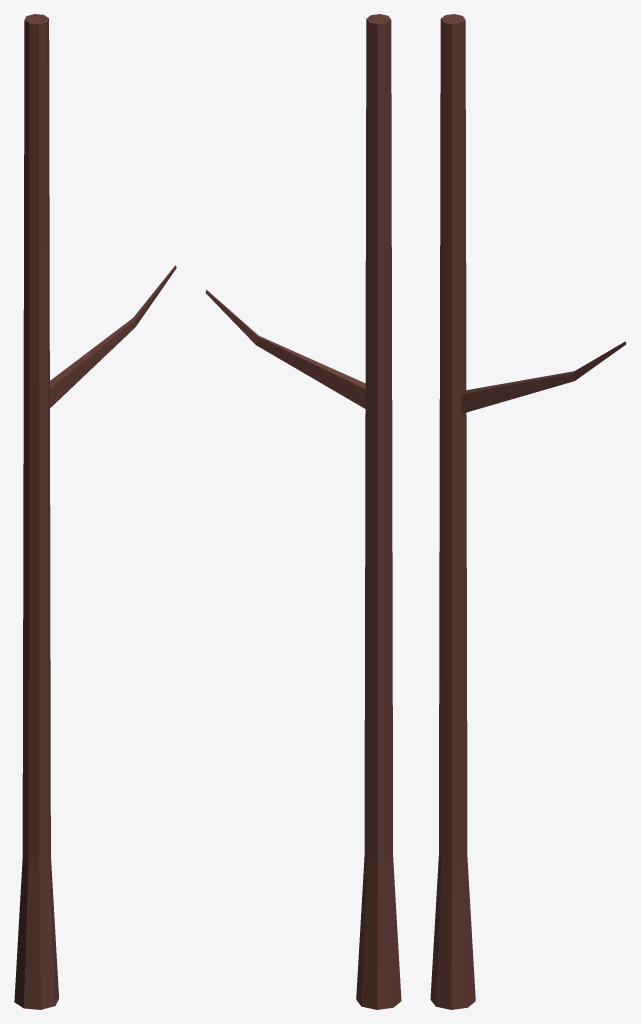
Rendered from LongTree_thin.fbx.
The picture shows the model from 3 angles, left to right: view 1: azimuth 30°, elevation 25°; view 2: azimuth 150°, elevation 25°; view 3: azimuth 330°, elevation 25°; orthographic projection.
Visible parts, largest first — view 1: TreeTrunk.001; view 2: TreeTrunk.001; view 3: TreeTrunk.001.
Boxes of the visible parts, x1,y1,x2,y2 form: TreeTrunk.001: (14, 14, 176, 1009); TreeTrunk.001: (205, 14, 401, 1009); TreeTrunk.001: (430, 14, 626, 1009).
Size of the model in its own units: 489 by 2621 by 135.
